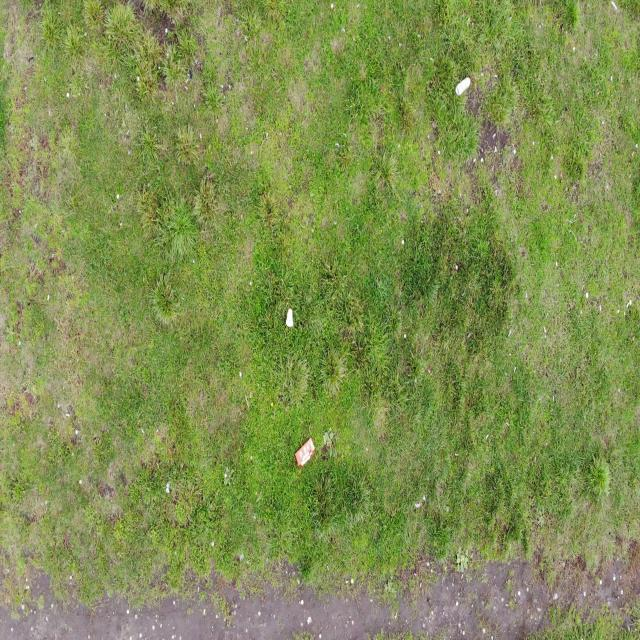rubbish: (294, 438, 316, 465), (455, 77, 471, 97), (284, 305, 293, 326)
